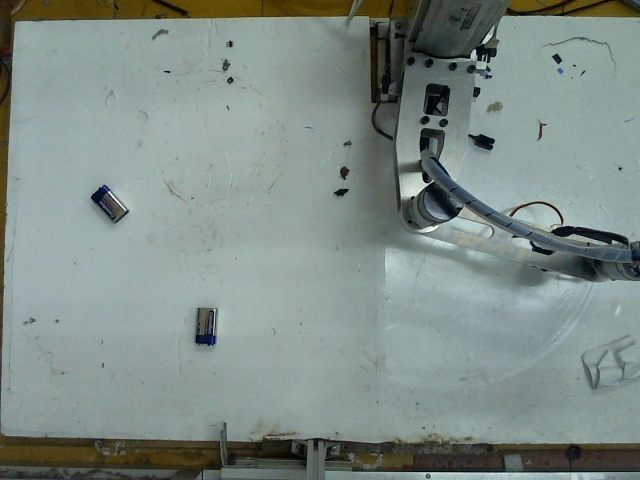battery: (87, 185, 135, 222), (190, 302, 222, 348)
